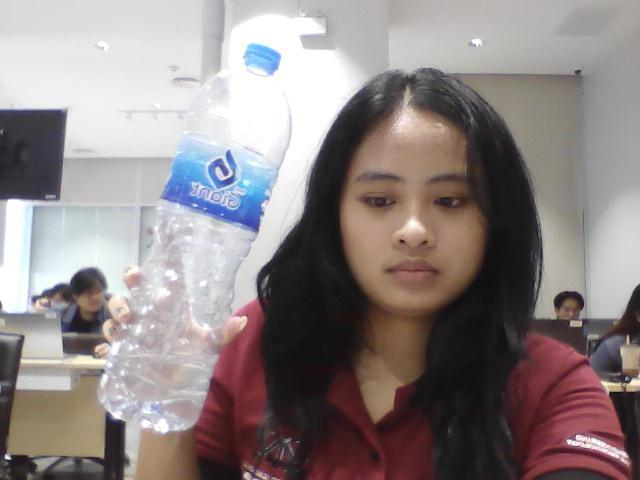bottle: (128, 29, 299, 434)
